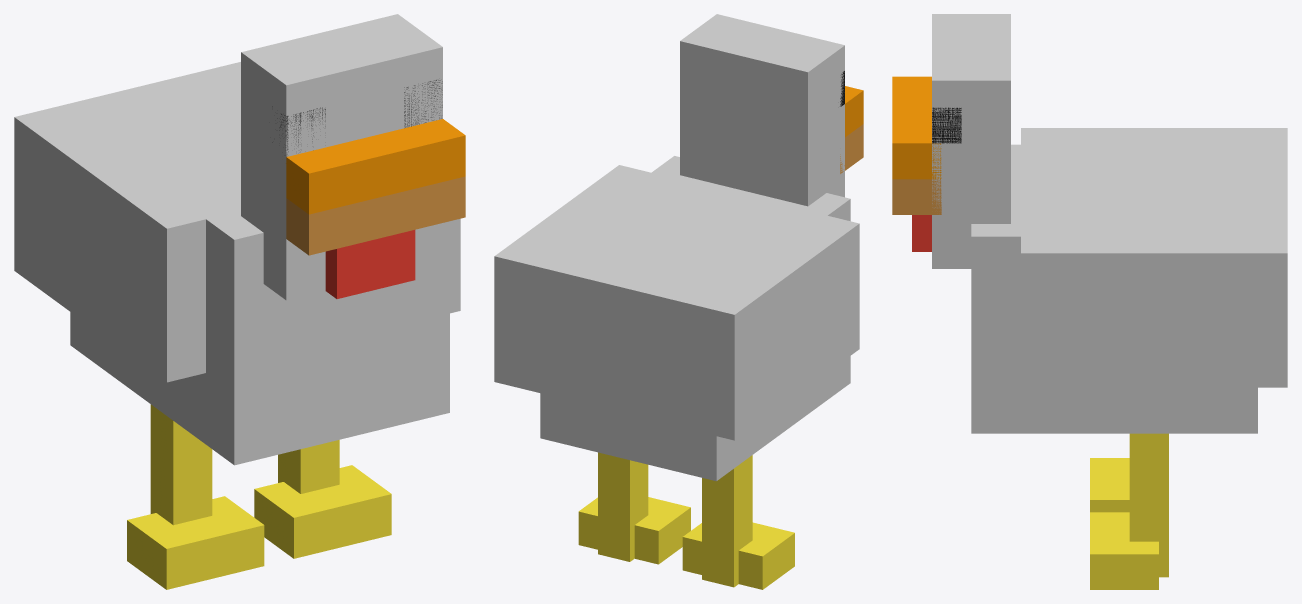
File: scene_SL0mnDoiEB.glb
The picture shows the model from 3 angles, left to right: view 1: azimuth 30°, elevation 25°; view 2: azimuth 150°, elevation 25°; view 3: azimuth 270°, elevation 25°; orthographic projection. The views are drawn at different scales.
Parts seen in each view (by area): view 1: group504529678, group141300265, group286481313, group597264213, group661522218, group1185750548, group806878011, group1107586350, group1841432480, group62301181; view 2: group504529678, group286481313, group141300265, group1107586350, group62301181, group661522218, group1185750548, group597264213, group806878011; view 3: group504529678, group141300265, group286481313, group62301181, group1185750548, group597264213, group661522218, group806878011, group1986552616, group1841432480.
Boxes of the visible parts, x1,y1,x2,y2 form: group504529678: (14, 62, 460, 382); group141300265: (70, 211, 449, 465); group286481313: (241, 14, 442, 300); group597264213: (286, 119, 465, 214); group661522218: (127, 496, 264, 589); group1185750548: (254, 465, 391, 558); group806878011: (286, 176, 465, 255); group1107586350: (150, 404, 212, 525); group1841432480: (325, 230, 415, 298); group62301181: (278, 440, 339, 493); group504529678: (494, 165, 859, 440); group286481313: (680, 14, 844, 206); group141300265: (540, 156, 850, 481); group1107586350: (702, 455, 752, 587); group62301181: (598, 452, 648, 561); group661522218: (682, 522, 794, 589); group1185750548: (578, 497, 690, 564); group597264213: (845, 86, 863, 137); group806878011: (840, 124, 863, 173); group504529678: (1021, 128, 1287, 387); group141300265: (971, 144, 1257, 433); group286481313: (932, 14, 1010, 268); group62301181: (1129, 433, 1168, 577); group1185750548: (1090, 512, 1158, 589); group597264213: (892, 76, 941, 179); group661522218: (1090, 458, 1129, 512); group806878011: (892, 179, 941, 214); group1986552616: (932, 107, 961, 143); group1841432480: (912, 215, 931, 251).
Bounding box in the file's own units: 0.3 × 0.55 × 0.4.
